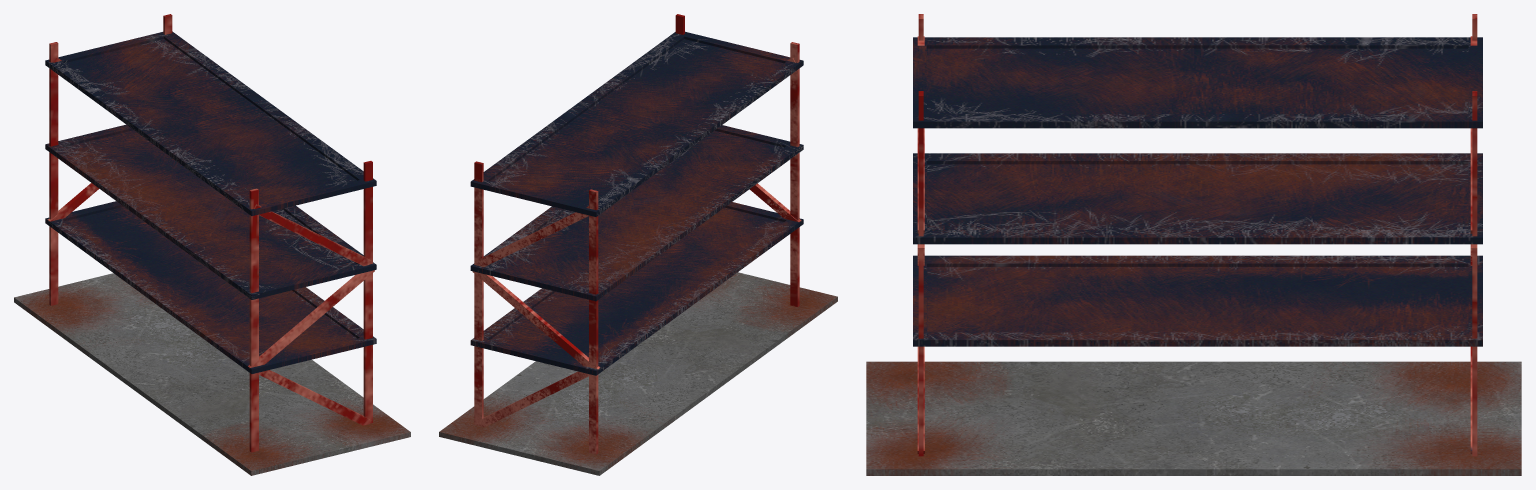
The model's file is shelf1.fbx.
3 views of the same model, side by side, from view 1: azimuth 30°, elevation 25°; view 2: azimuth 150°, elevation 25°; view 3: azimuth 270°, elevation 25° (orthographic). The views are drawn at different scales.
Visible parts, largest first — view 1: polySurface5; view 2: polySurface5; view 3: polySurface5.
Boxes of the visible parts, x1,y1,x2,y2 form: polySurface5: [14, 14, 410, 475]; polySurface5: [439, 14, 837, 475]; polySurface5: [866, 14, 1521, 475].
Bounding box in the file's own units: 1.68 × 2.67 × 4.32.
